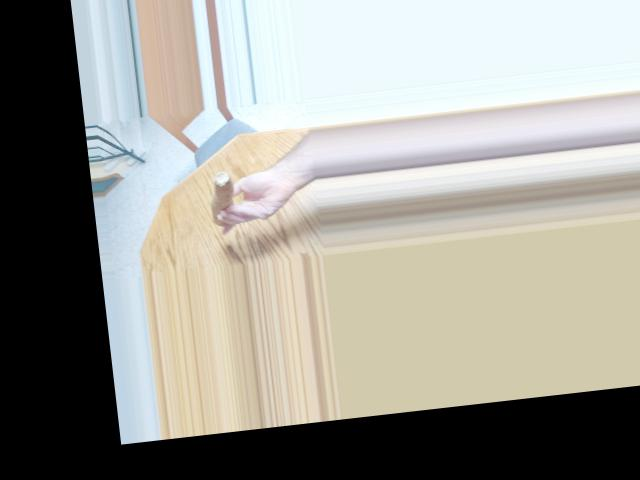sweet_potato: (206, 178, 230, 228)
